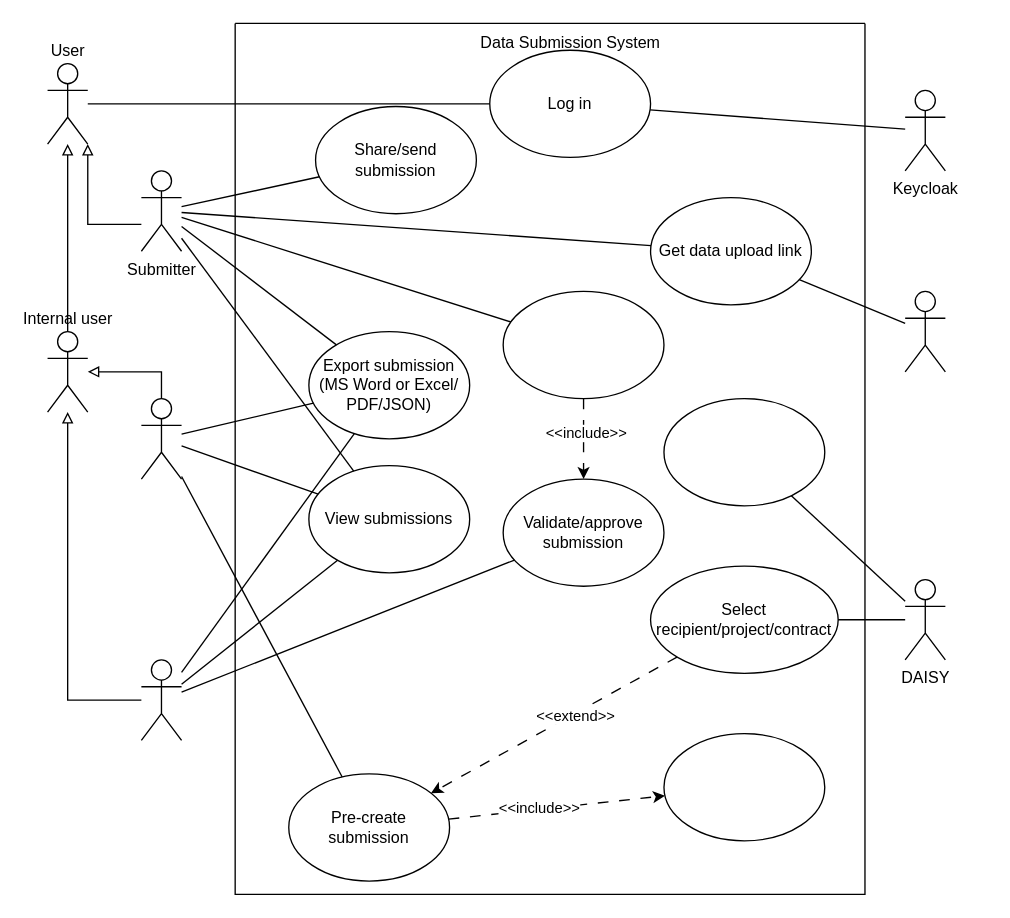
This 1010x918 diagram has some shape labels left out. Here are the shapes that lost their labels. From the top down, the box of each, then its label:
(502, 290, 664, 399): Submit metadata
(904, 290, 945, 372): Data transfer tool
(140, 397, 182, 479): Recipient
(663, 397, 825, 506): Extract metadata
(140, 659, 182, 740): Data steward
(663, 732, 825, 841): Select metadata schema
